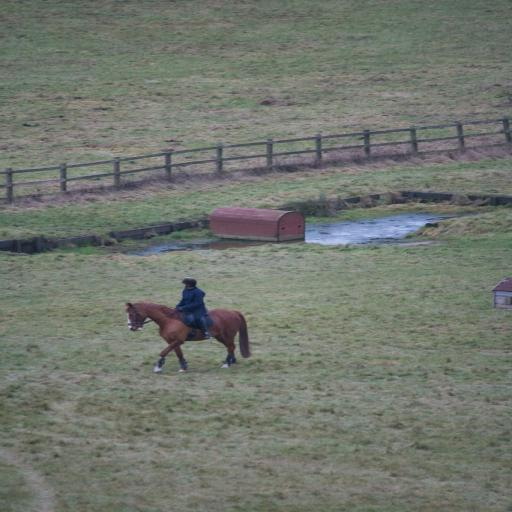horse: (122, 300, 254, 374)
